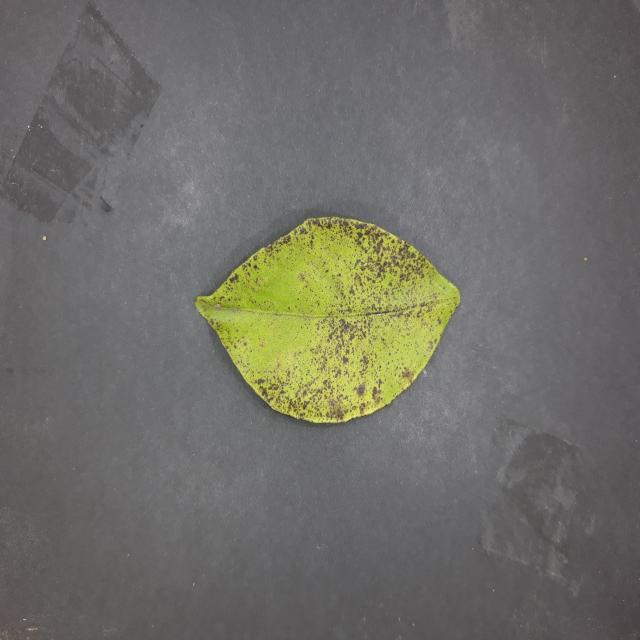greasy_spot: (196, 217, 460, 423)
